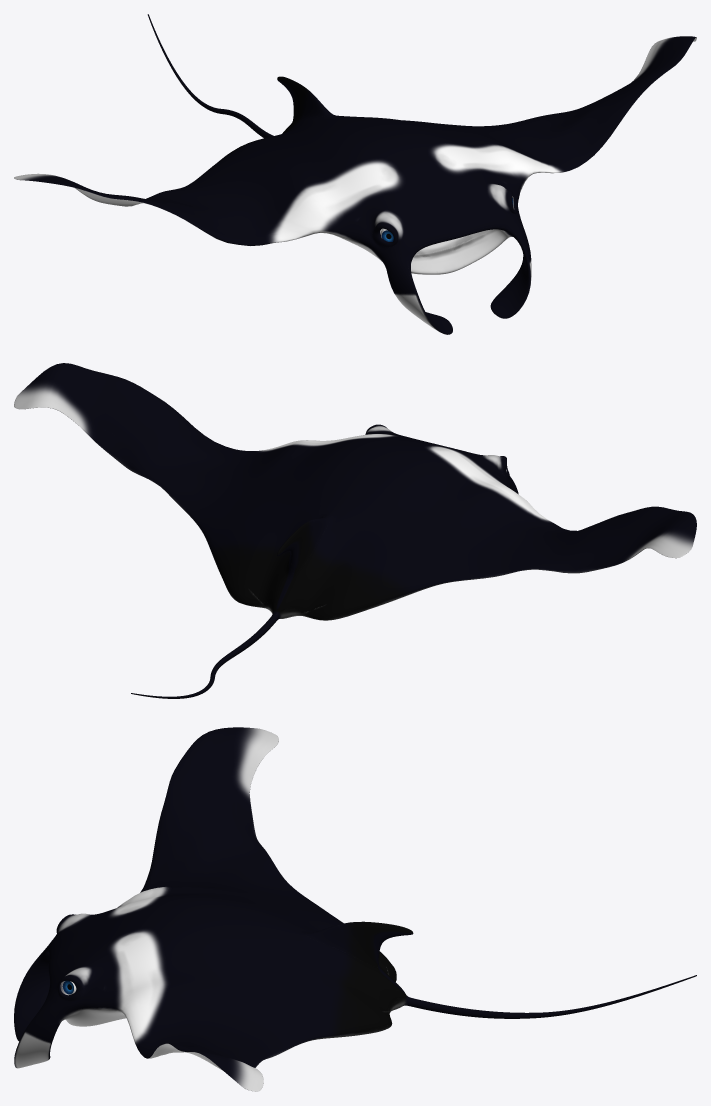
Rendered from giantMantaRay_edit_for_FBX.fbx.
The picture shows the model from 3 angles, top to bottom: view 1: azimuth 30°, elevation 25°; view 2: azimuth 150°, elevation 25°; view 3: azimuth 270°, elevation 25°; orthographic projection. The views are drawn at different scales.
Visible parts, largest first — view 1: MantaRay; view 2: MantaRay; view 3: MantaRay.
Boxes of the visible parts, x1=… form: MantaRay: x1=14, y1=14, x2=696, y2=334; MantaRay: x1=14, y1=363, x2=696, y2=698; MantaRay: x1=14, y1=727, x2=696, y2=1091.
Size of the model in its own units: 1520 by 334 by 1292.
